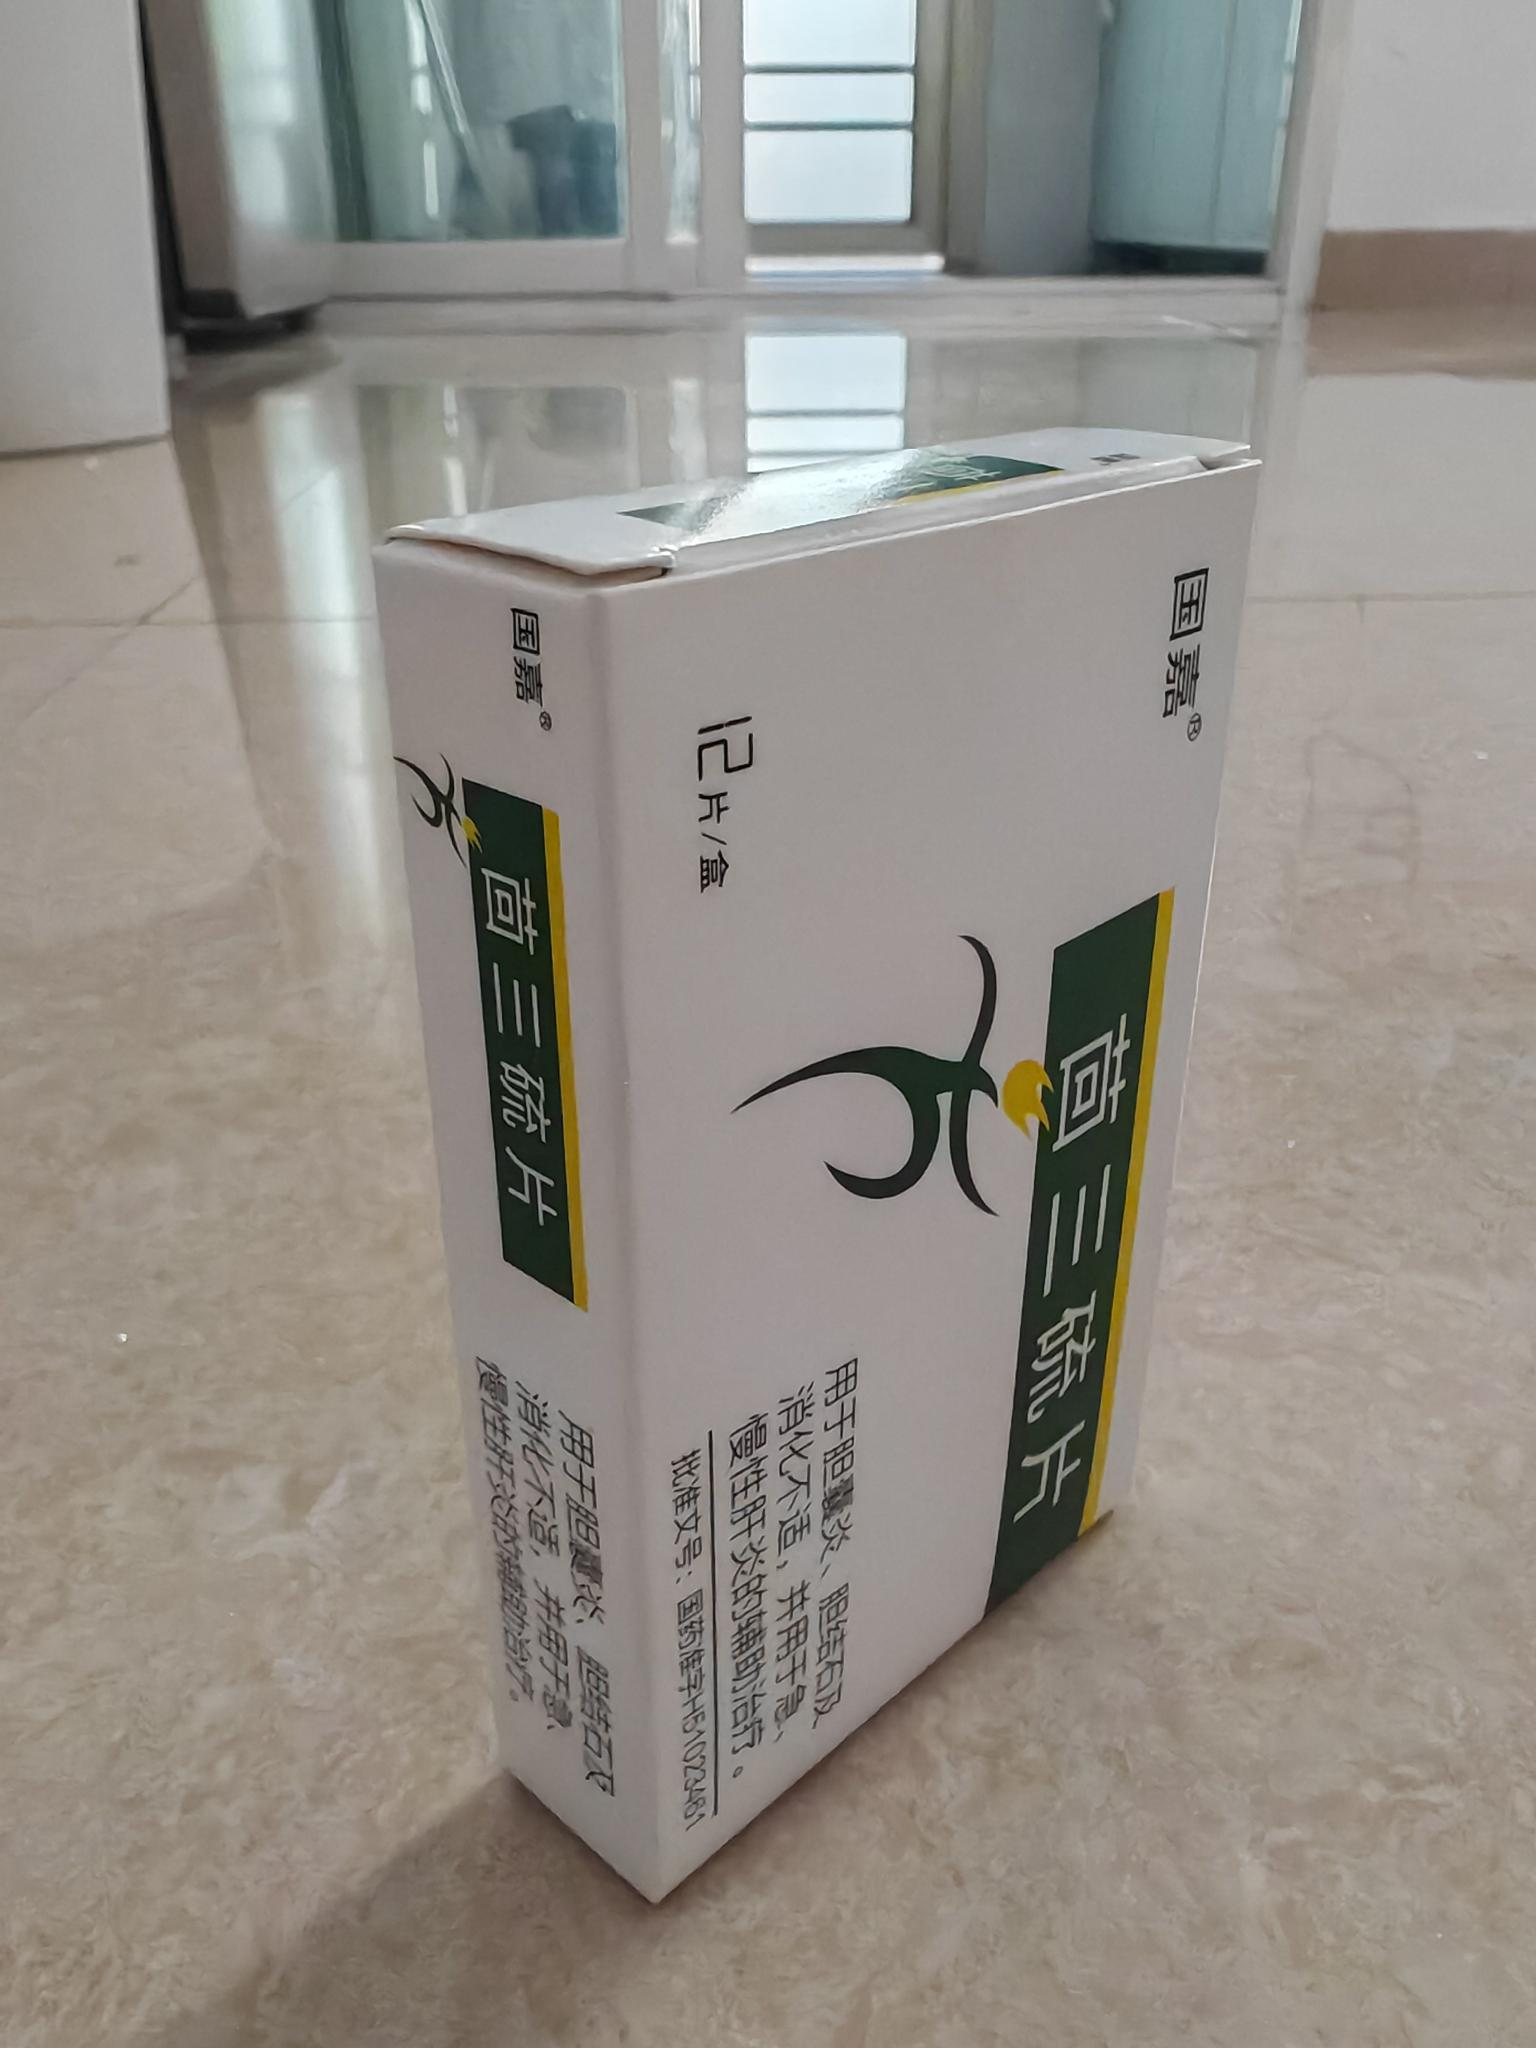Medicine4: (353, 408, 1275, 1922)
